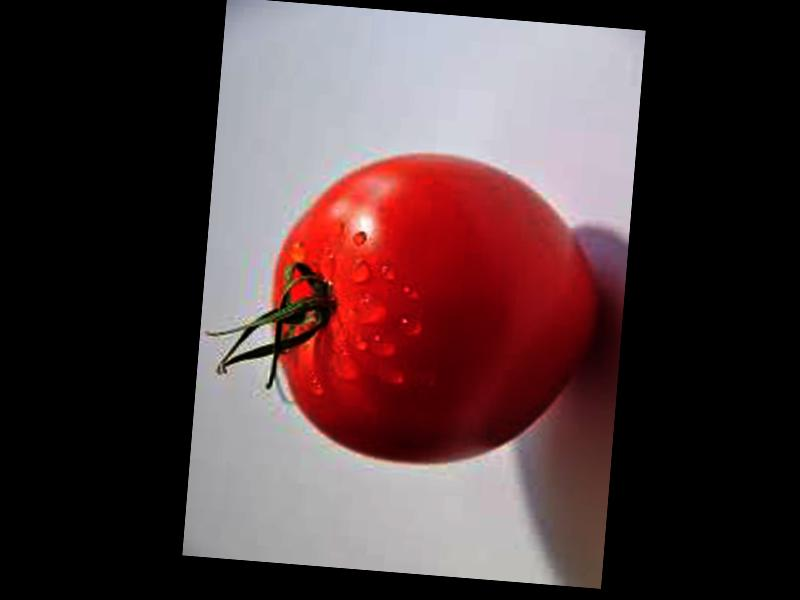Tomato: (264, 142, 609, 475)
